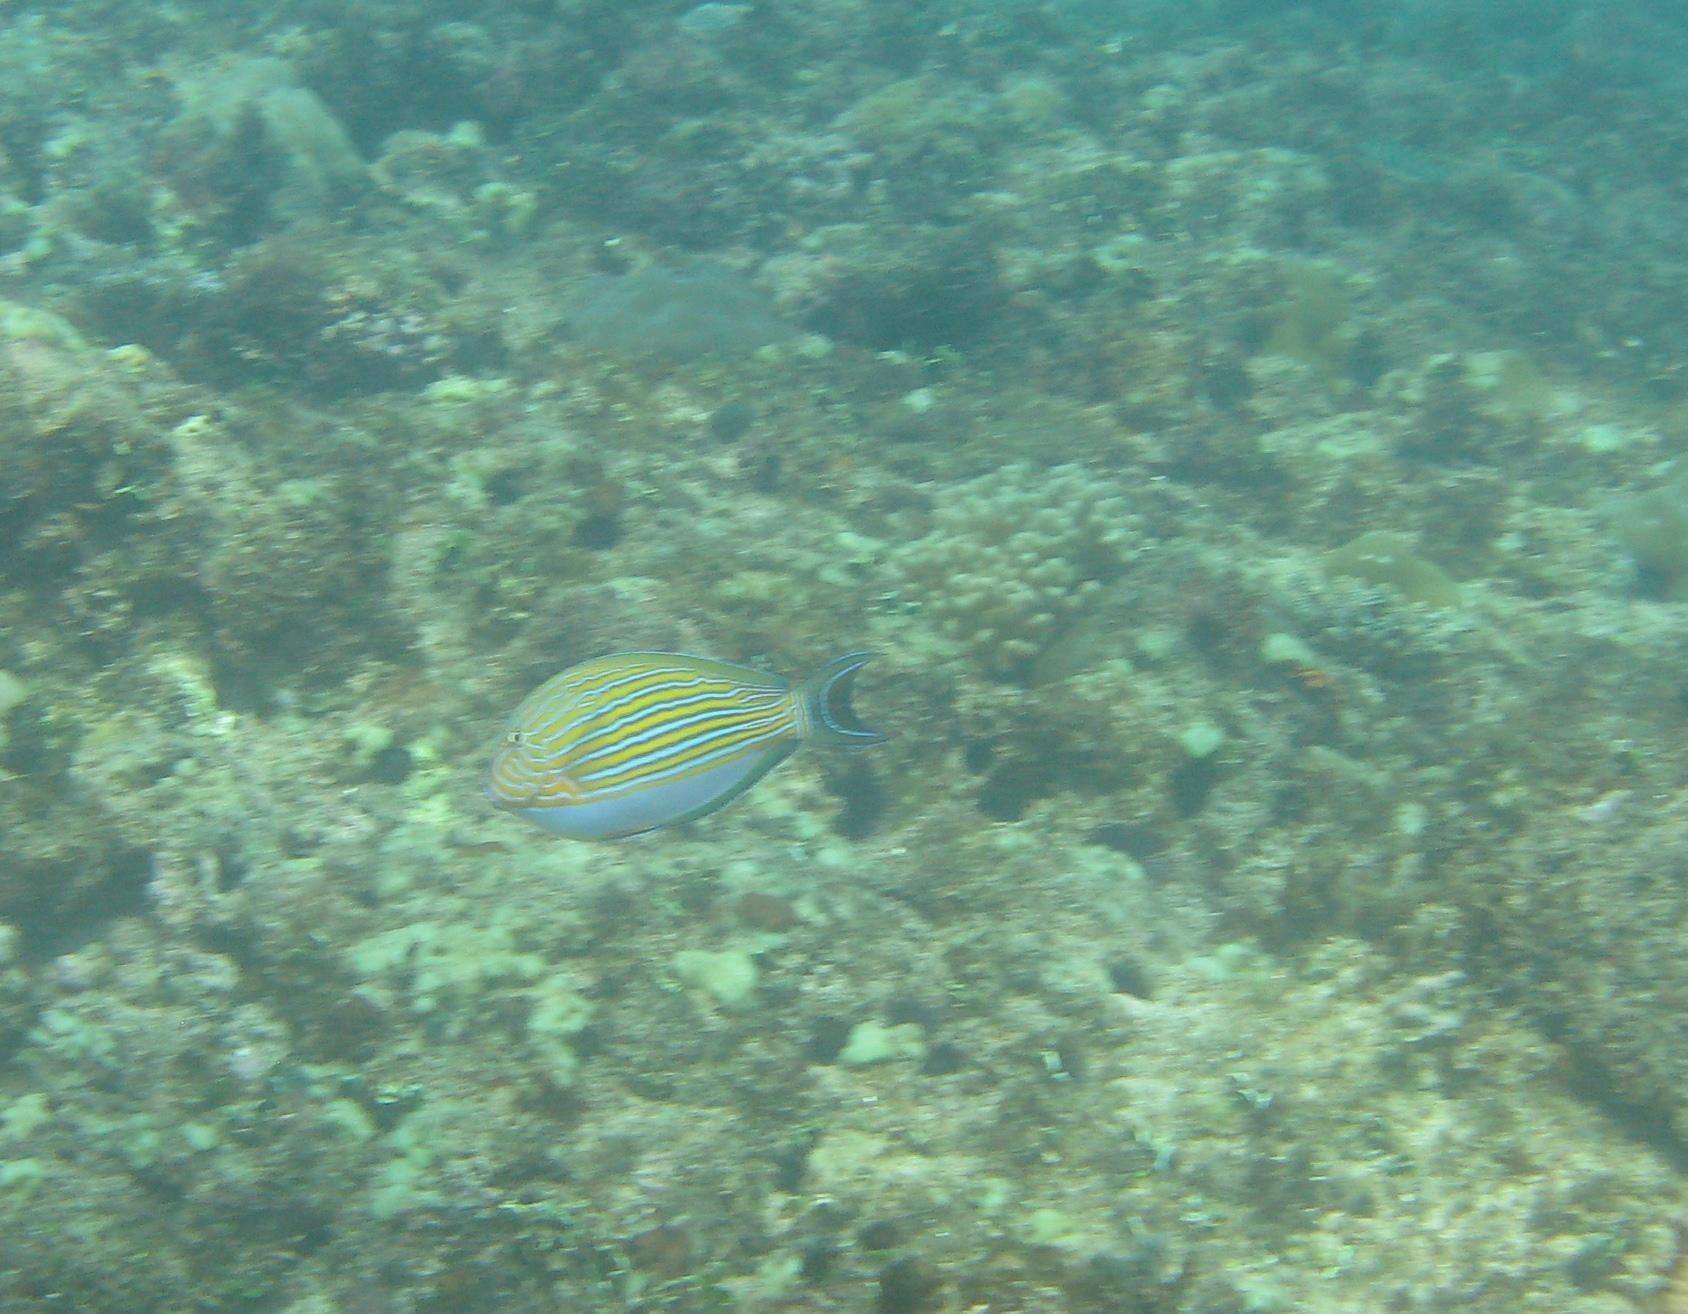Acanthurus lineatus: (451, 606, 876, 843)
